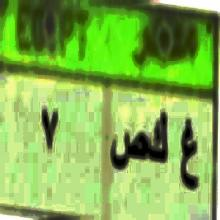7: (39, 105, 64, 153)
ghayn: (175, 115, 201, 200)
kaaf: (150, 107, 172, 166)
saad: (109, 124, 149, 169)
